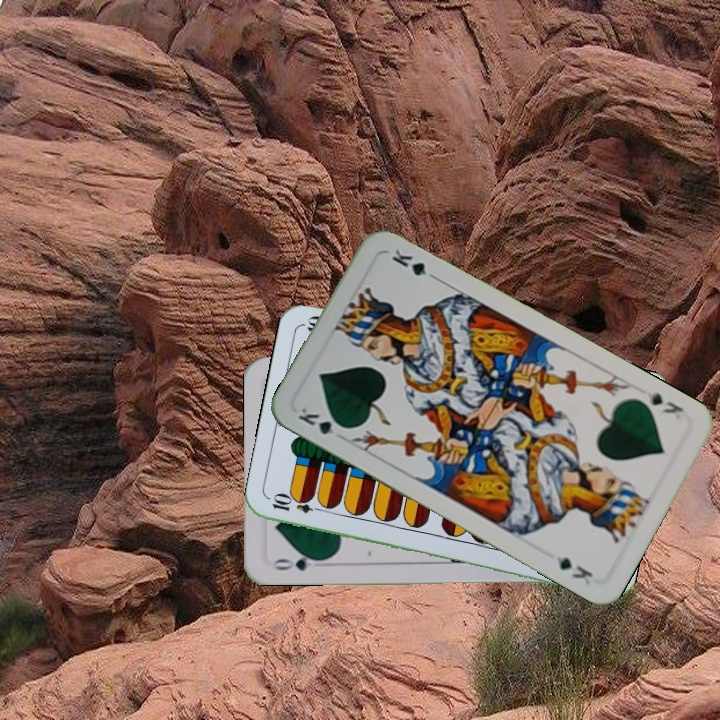E10: (268, 492, 327, 517)
GK: (294, 402, 350, 440), (641, 387, 686, 417)
GO: (270, 550, 328, 574)
